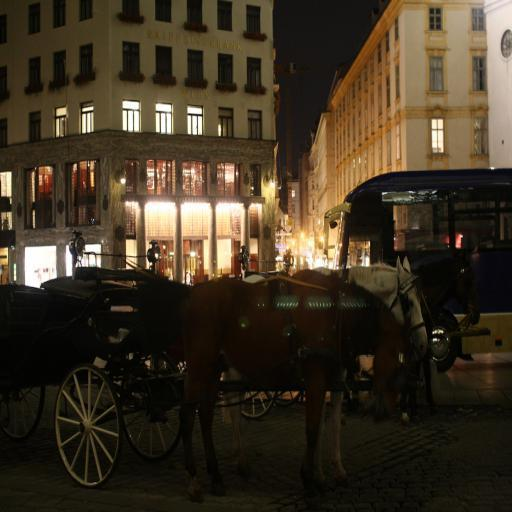horse: (178, 268, 404, 502), (220, 252, 428, 488)
